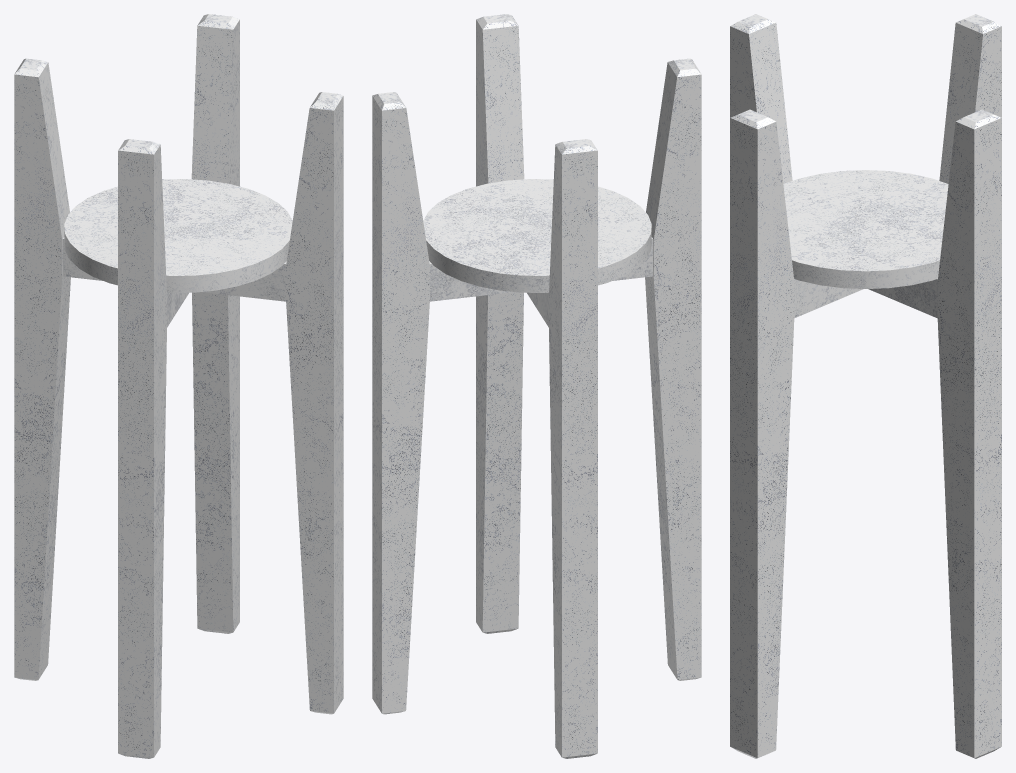
Rendered from PotStand_B3.fbx.
3 renders of one model, left to right at view 1: azimuth 30°, elevation 25°; view 2: azimuth 150°, elevation 25°; view 3: azimuth 270°, elevation 25°, orthographic. The views are drawn at different scales.
Visible parts, largest first — view 1: PotStand_B5, PotStand_B6; view 2: PotStand_B5, PotStand_B6; view 3: PotStand_B5, PotStand_B6.
Boxes of the visible parts, <box> form: PotStand_B5: <box>14,14,343,758</box>; PotStand_B6: <box>64,179,292,292</box>; PotStand_B5: <box>372,14,701,758</box>; PotStand_B6: <box>423,179,651,292</box>; PotStand_B5: <box>730,14,1001,758</box>; PotStand_B6: <box>783,170,948,288</box>.
Size of the model in its own units: 0.1385 by 0.358 by 0.1385.
